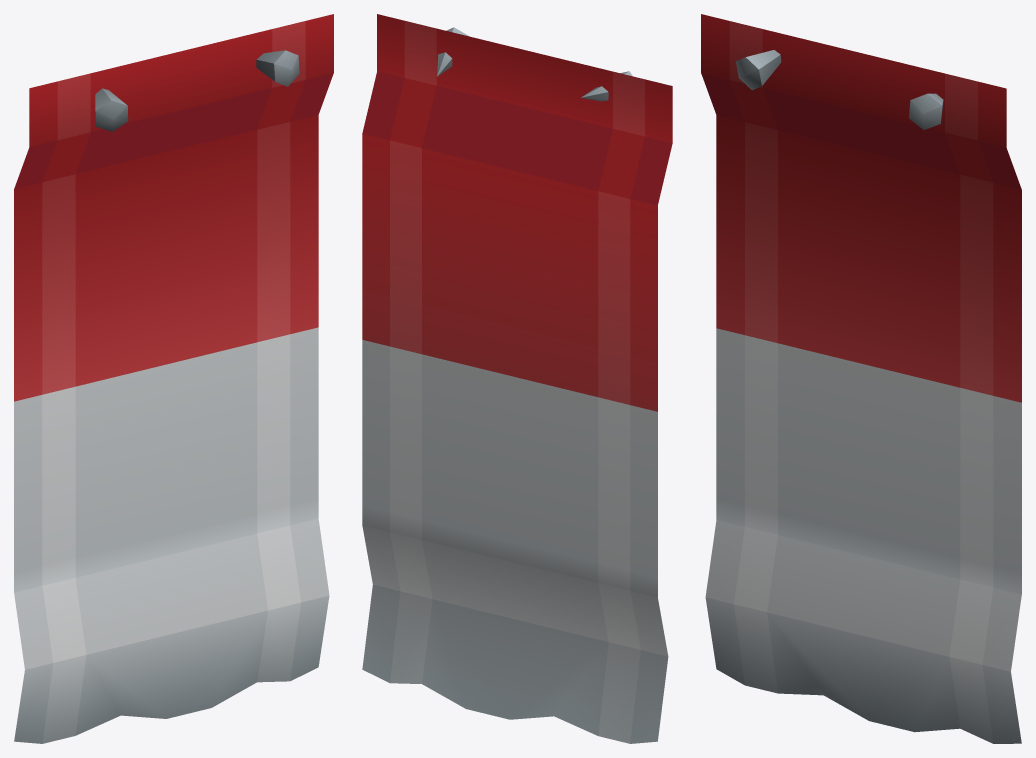
The model's file is banner_patternC_red.gltf.
The picture shows the model from 3 angles, left to right: view 1: azimuth 30°, elevation 25°; view 2: azimuth 150°, elevation 25°; view 3: azimuth 330°, elevation 25°; orthographic projection. The views are drawn at different scales.
Parts seen in each view (by area): view 1: banner_patternC_red; view 2: banner_patternC_red; view 3: banner_patternC_red.
Boxes of the visible parts, x1=… form: banner_patternC_red: x1=14, y1=14, x2=333, y2=743; banner_patternC_red: x1=362, y1=14, x2=672, y2=743; banner_patternC_red: x1=701, y1=14, x2=1021, y2=743.
Bounding box in the file's own units: 1.5 × 3.2 × 0.3119.
1 material, 1 textured.
